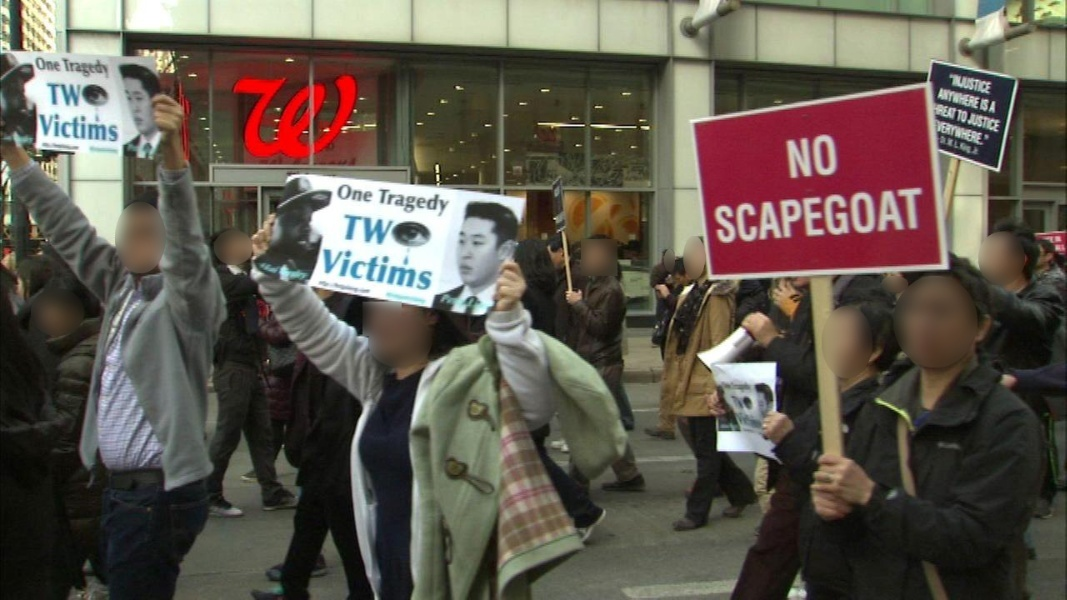text: (353, 74, 369, 160), (241, 74, 256, 160), (257, 74, 272, 160), (273, 74, 288, 160), (289, 74, 304, 160), (305, 74, 320, 160), (321, 74, 336, 160), (337, 74, 352, 160), (721, 186, 736, 244), (737, 186, 752, 244), (753, 186, 768, 244), (769, 186, 784, 244), (785, 186, 800, 244), (801, 186, 816, 244), (817, 186, 832, 244), (833, 186, 848, 244), (849, 186, 864, 244), (865, 186, 880, 244), (881, 186, 896, 244), (897, 186, 912, 244), (230, 74, 240, 160), (417, 246, 433, 291), (801, 133, 816, 180), (817, 133, 832, 180), (337, 246, 352, 291), (353, 246, 368, 291), (369, 246, 384, 291), (385, 246, 400, 291), (401, 246, 416, 291), (786, 133, 800, 180), (977, 116, 993, 157), (913, 186, 924, 244), (322, 246, 336, 291), (945, 116, 960, 157), (961, 116, 976, 157), (711, 186, 720, 244), (353, 214, 368, 247), (369, 214, 384, 247), (932, 116, 944, 157), (385, 188, 400, 218), (401, 188, 416, 218), (417, 188, 432, 218), (433, 188, 448, 218), (49, 112, 64, 142), (65, 112, 80, 142), (81, 112, 96, 142), (97, 112, 112, 142), (385, 214, 396, 247), (961, 72, 976, 96), (977, 72, 992, 96), (49, 83, 64, 107), (65, 83, 80, 107), (977, 112, 992, 135), (337, 182, 352, 204), (353, 182, 368, 204), (65, 58, 80, 80), (81, 58, 96, 80), (37, 112, 48, 142), (97, 58, 111, 80), (961, 90, 976, 110), (945, 102, 960, 121), (737, 412, 752, 430), (344, 214, 352, 247), (993, 112, 1004, 135), (931, 102, 944, 121), (945, 86, 957, 106), (113, 112, 121, 142), (49, 141, 64, 157), (65, 141, 80, 157), (81, 141, 96, 157), (97, 141, 112, 157), (321, 280, 336, 296), (337, 280, 352, 296), (353, 280, 368, 296), (833, 133, 838, 180), (978, 96, 992, 112), (113, 141, 127, 157), (49, 55, 62, 72), (951, 72, 960, 96), (967, 112, 976, 135), (36, 55, 48, 72), (401, 291, 416, 304), (386, 291, 400, 304), (961, 106, 971, 124), (721, 381, 736, 393), (737, 381, 752, 393), (37, 141, 48, 157), (753, 412, 762, 430), (952, 90, 960, 110), (369, 182, 376, 204), (379, 188, 384, 218), (937, 86, 944, 106), (977, 90, 984, 110), (417, 291, 427, 304), (993, 72, 997, 96), (60, 58, 64, 80), (993, 101, 999, 113), (956, 106, 960, 124), (449, 188, 451, 218), (987, 101, 992, 113), (46, 83, 48, 107), (369, 280, 372, 296), (716, 381, 720, 393), (734, 412, 736, 430), (318, 280, 320, 296), (81, 83, 82, 107)
